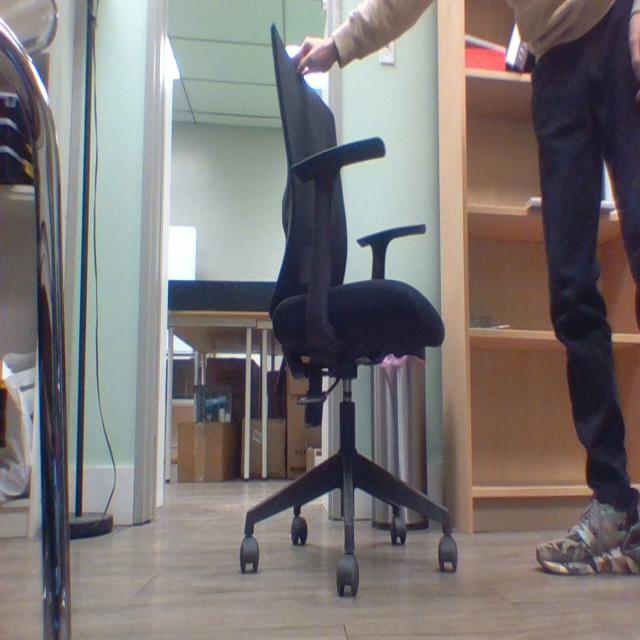black-chair: (234, 24, 460, 601)
